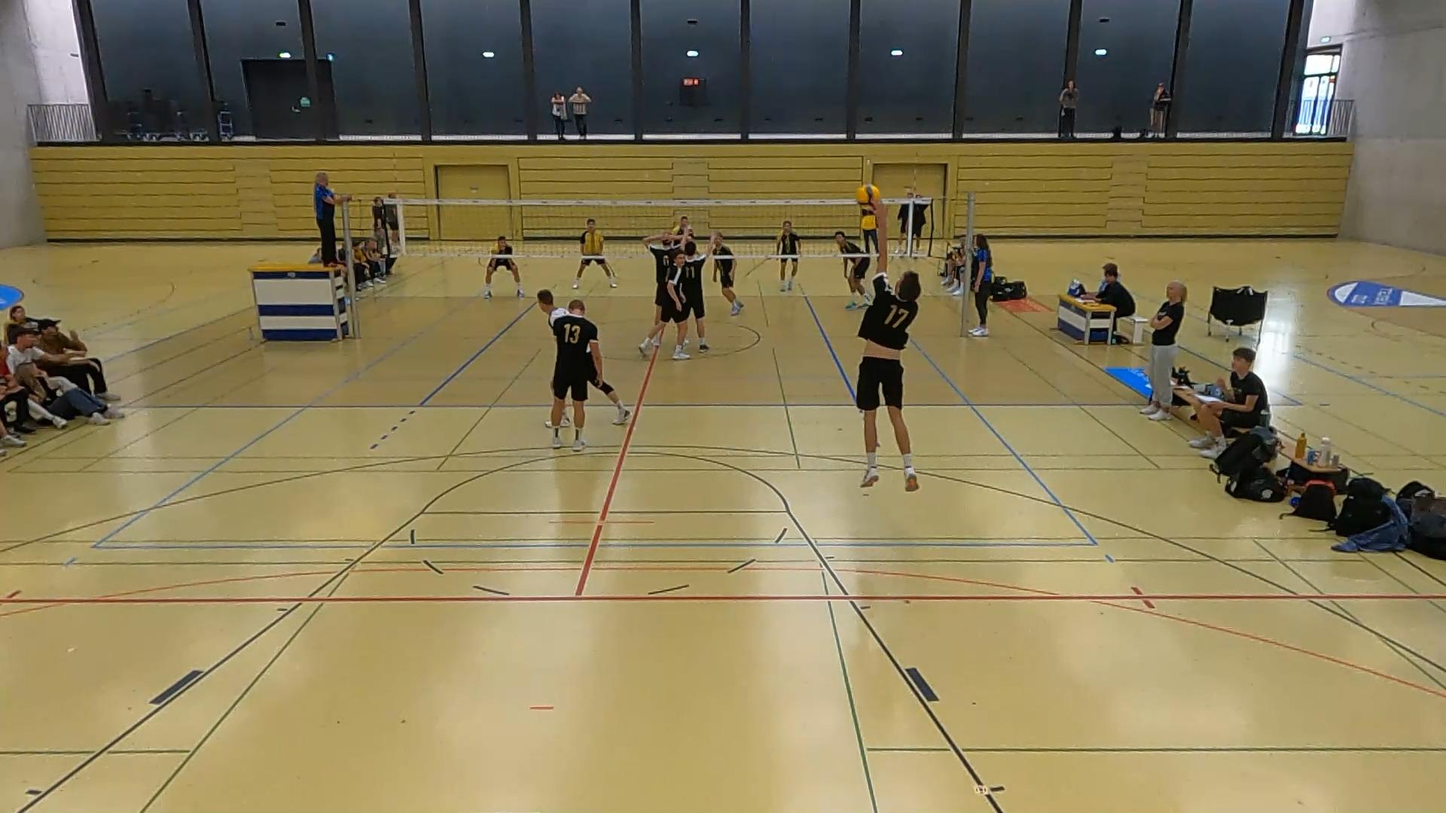battuta: (851, 201, 926, 498)
